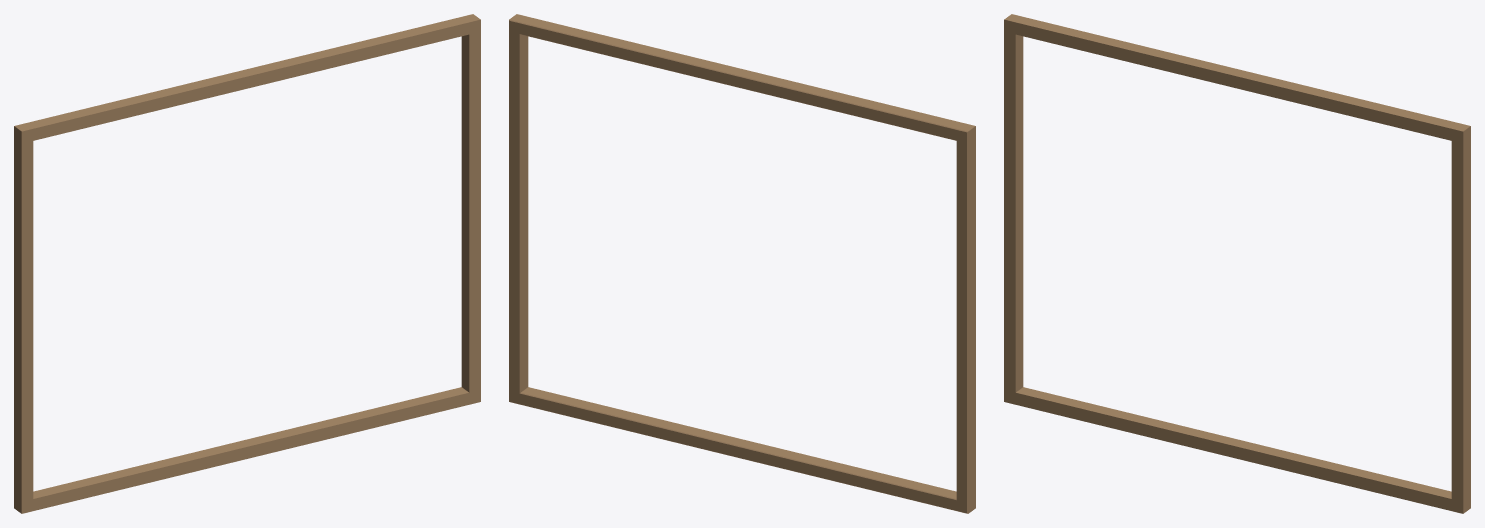
3 renders of one model, left to right at view 1: azimuth 30°, elevation 25°; view 2: azimuth 150°, elevation 25°; view 3: azimuth 330°, elevation 25°, orthographic.
Parts seen in each view (by area): view 1: Wheat exact-fit matte oak frame; view 2: Wheat exact-fit matte oak frame; view 3: Wheat exact-fit matte oak frame.
Part boxes in pixels (bbox=[...]): Wheat exact-fit matte oak frame: bbox=[14, 14, 480, 513]; Wheat exact-fit matte oak frame: bbox=[509, 14, 975, 513]; Wheat exact-fit matte oak frame: bbox=[1004, 14, 1470, 513].
Size of the model in its own units: 0.99 by 0.788 by 0.03.
